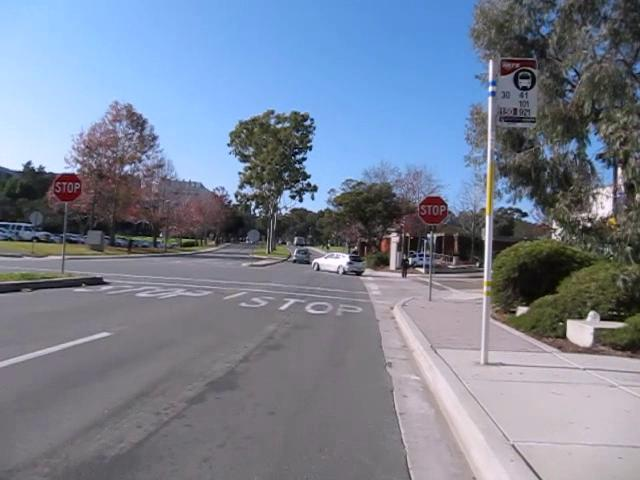stop: (416, 194, 449, 226), (53, 172, 82, 203)
